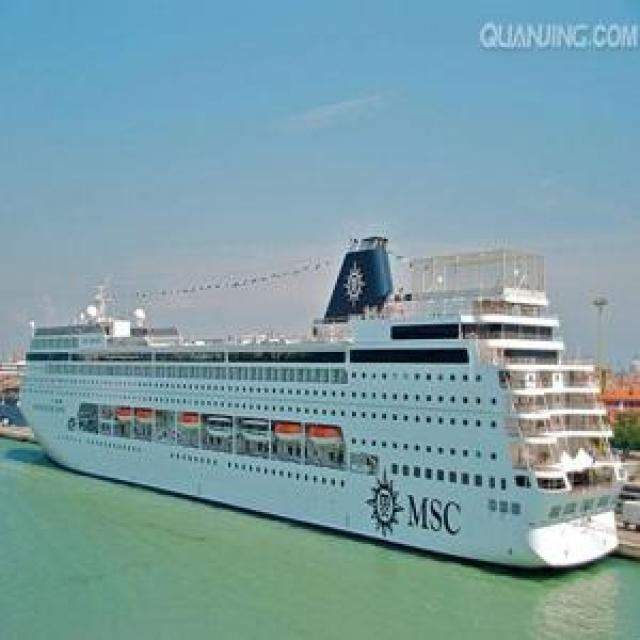passenger ship: (16, 228, 622, 578)
